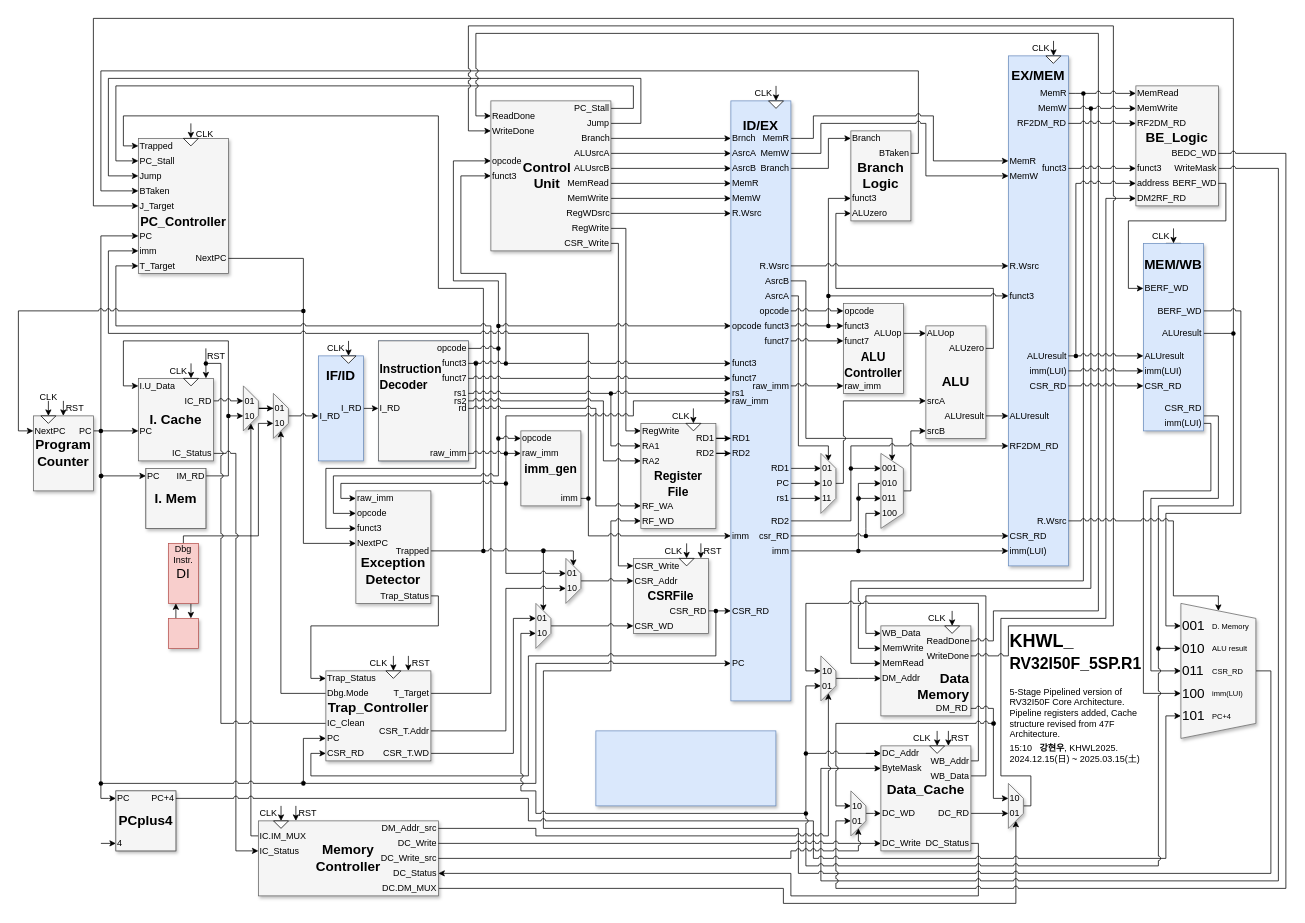
Some shapes in this 1305 by 923 pixel diagram are drawn without their labels. The centre of each missing label's shape, as x and y in pixels:
"Dbgr" goes at (x=184, y=634).
"Hazard Unit" goes at (x=686, y=769).
